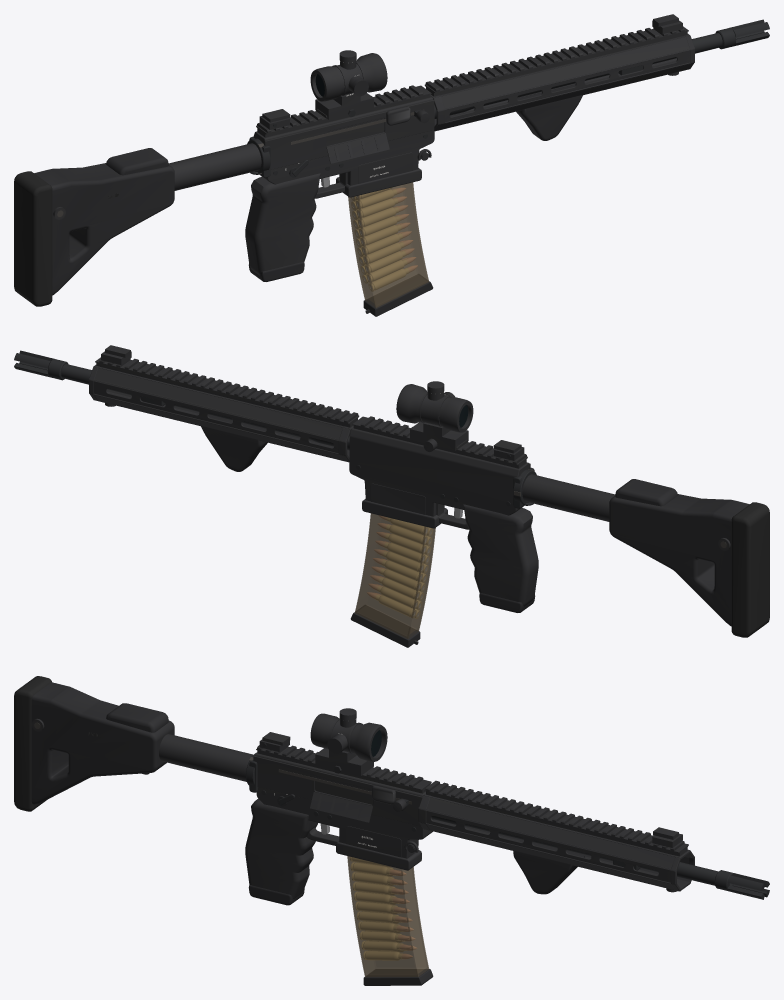
The model's file is sahin.glb.
3 views of the same model, one above another, from view 1: azimuth 30°, elevation 25°; view 2: azimuth 150°, elevation 25°; view 3: azimuth 330°, elevation 25° (orthographic).
Visible parts, largest first — view 1: dipcik, el_kundagi, ust_govde, sarjor, kabza, alt_govde, nisangah, tampon_borusu, namlu, on_tutamak; view 2: dipcik, el_kundagi, ust_govde, sarjor, kabza, alt_govde, nisangah, tampon_borusu, namlu, on_tutamak; view 3: dipcik, el_kundagi, ust_govde, sarjor, kabza, alt_govde, nisangah, tampon_borusu, namlu, on_tutamak.
Part boxes in pixels (<box>): dipcik: <box>14,148,174,306</box>; el_kundagi: <box>424,14,694,131</box>; ust_govde: <box>253,85,434,169</box>; sarjor: <box>348,182,433,316</box>; kabza: <box>245,173,320,281</box>; alt_govde: <box>260,130,434,198</box>; nisangah: <box>310,50,387,119</box>; tampon_borusu: <box>168,136,270,190</box>; namlu: <box>434,19,769,118</box>; on_tutamak: <box>516,84,582,140</box>; dipcik: <box>609,479,769,637</box>; el_kundagi: <box>89,345,359,462</box>; ust_govde: <box>349,416,530,501</box>; sarjor: <box>350,513,435,647</box>; kabza: <box>463,504,538,612</box>; alt_govde: <box>349,462,523,529</box>; nisangah: <box>396,381,473,451</box>; tampon_borusu: <box>513,467,615,521</box>; namlu: <box>14,350,349,450</box>; on_tutamak: <box>201,415,267,471</box>; dipcik: <box>14,676,174,811</box>; el_kundagi: <box>418,780,694,892</box>; ust_govde: <box>253,732,431,826</box>; sarjor: <box>347,856,433,985</box>; kabza: <box>245,798,317,905</box>; alt_govde: <box>256,787,433,870</box>; nisangah: <box>310,708,387,775</box>; tampon_borusu: <box>159,734,257,792</box>; namlu: <box>431,816,769,899</box>; on_tutamak: <box>513,840,585,894</box>.
Size of the model in its own units: 0.88 by 0.2995 by 0.0527.
